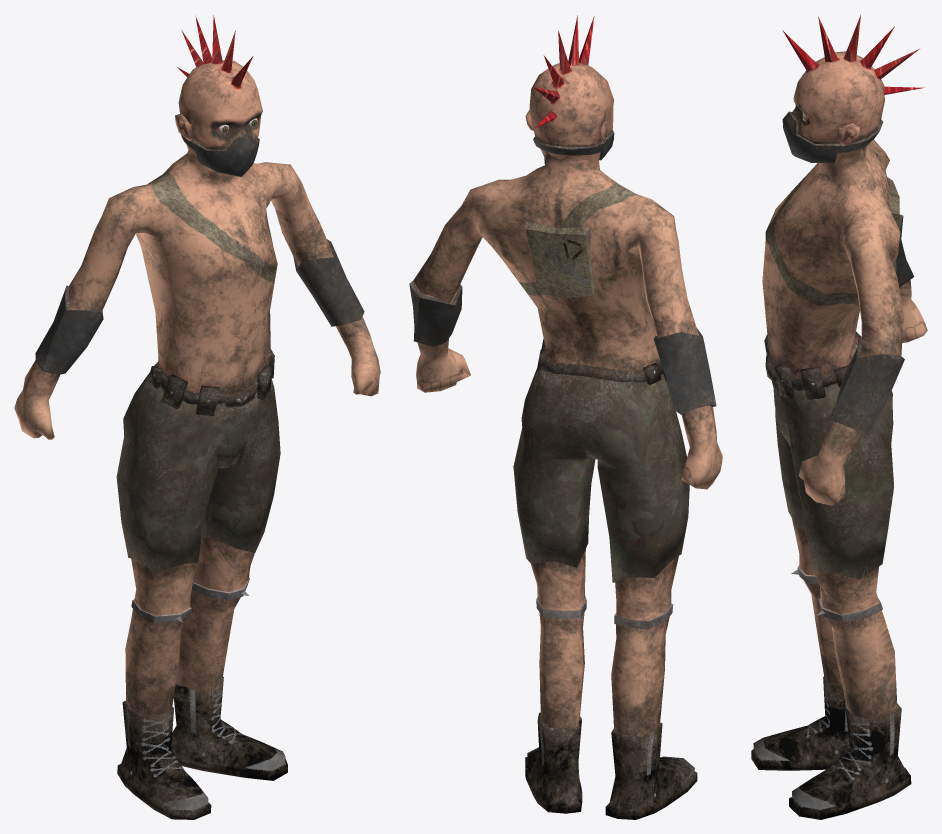
File: Anim_interruptor_npc2.0035.obj
3 renders of one model, left to right at view 1: azimuth 30°, elevation 25°; view 2: azimuth 150°, elevation 25°; view 3: azimuth 270°, elevation 25°, orthographic. The views are drawn at different scales.
Parts seen in each view (by area): view 1: polySurface1; view 2: polySurface1; view 3: polySurface1.
Part boxes in pixels (left/top/right/bottom): polySurface1: left=14, top=15, right=380, bottom=819; polySurface1: left=409, top=15, right=722, bottom=819; polySurface1: left=751, top=15, right=927, bottom=819.
Bounding box in the file's own units: 4.6 × 10.14 × 2.07.
